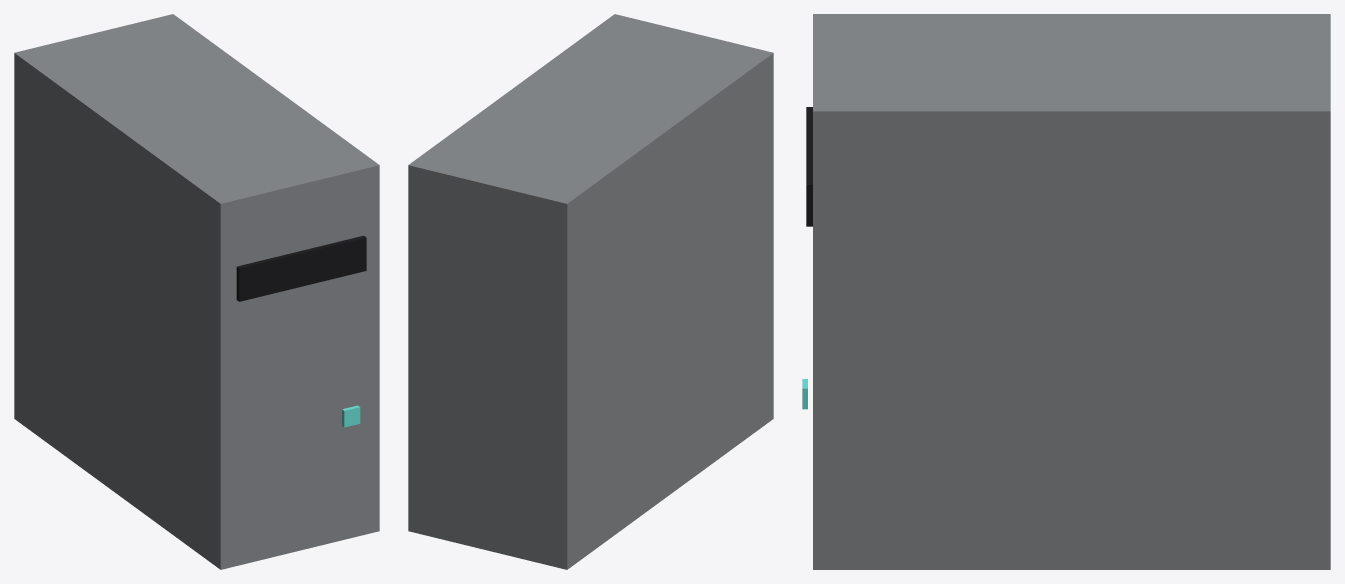
File: GD_ComputerTower_01.glb
The picture shows the model from 3 angles, left to right: view 1: azimuth 30°, elevation 25°; view 2: azimuth 150°, elevation 25°; view 3: azimuth 270°, elevation 25°; orthographic projection. The views are drawn at different scales.
Visible parts, largest first — view 1: GD_ComputerTower_01; view 2: GD_ComputerTower_01; view 3: GD_ComputerTower_01.
Part boxes in pixels (box(x1,y1,x2,y2)): GD_ComputerTower_01: box(14, 14, 379, 569); GD_ComputerTower_01: box(408, 14, 773, 569); GD_ComputerTower_01: box(802, 14, 1330, 569).
Size of the model in its own units: 0.2 by 0.44 by 0.4595.
1 material, 1 textured.
